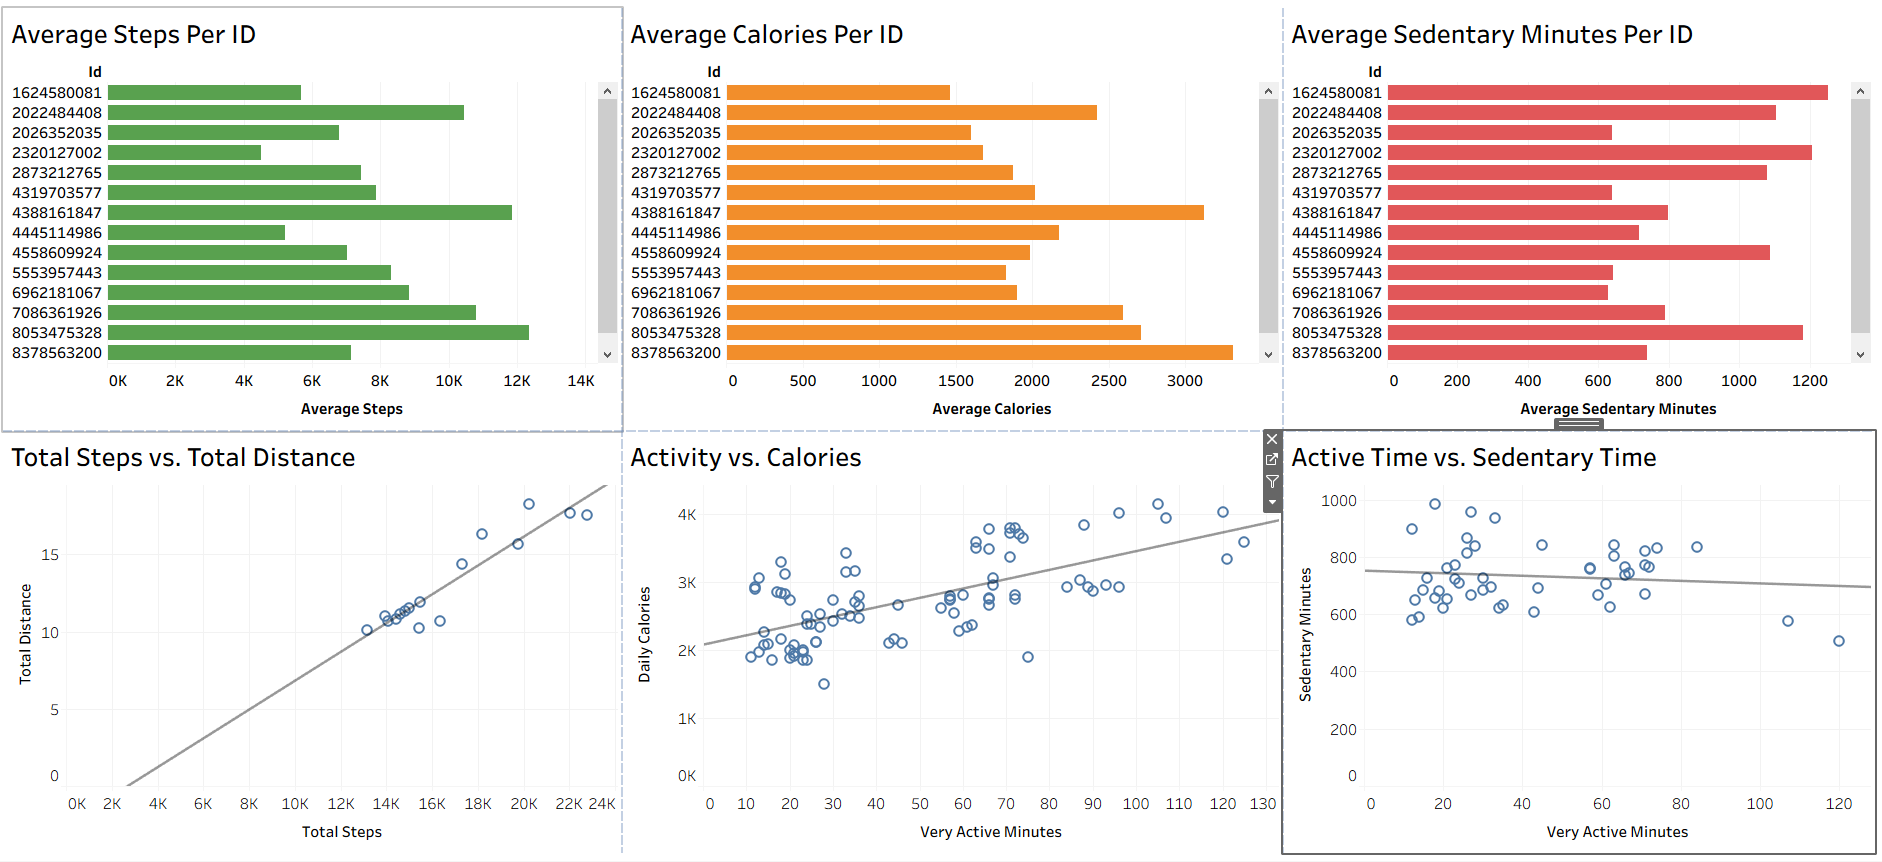

Layout of this report page (visuals, bound fields, positions):
{"tool":"tableau","page":{"name":"Dashboard 1","canvas":[1000,1000],"units":"permille","ordinal":0},"visuals":[{"type":"worksheet","title":"Sheet 3","mark":"Automatic","rows":["Id"],"cols":["Average Steps"],"box":[6.4,9.3,326.3,490.7]},{"type":"worksheet","title":"Sheet 1","mark":"Automatic","rows":["Id"],"cols":["Average Calories"],"box":[332.7,9.3,348.6,490.7]},{"type":"worksheet","title":"Sheet 2","mark":"Automatic","rows":["Id"],"cols":["Average Sedentary Minutes"],"box":[681.3,9.3,312.3,490.7]},{"type":"worksheet","title":"Sheet 5","mark":"Automatic","rows":["TotalDistance"],"cols":["TotalSteps"],"box":[6.4,500,326.3,490.7]},{"type":"worksheet","title":"Sheet 6","mark":"Automatic","rows":["Daily Calories"],"cols":["VeryActiveMinutes"],"box":[332.7,500,348.6,490.7]},{"type":"worksheet","title":"Sheet 7","mark":"Automatic","rows":["SedentaryMinutes"],"cols":["VeryActiveMinutes"],"box":[681.3,500,312.3,490.7]}]}

Visuals, with their boxes on the dashboard's canvas, which has no fixed pixel size, in thousandths of its width and height (x1, y1, x2, y2). These are canvas units, not pixel positions in the 1882x862 screenshot, which may show the page scaled, cropped or inside an application window:
"Sheet 3" worksheet: BBox(6, 9, 333, 500)
"Sheet 1" worksheet: BBox(333, 9, 681, 500)
"Sheet 2" worksheet: BBox(681, 9, 994, 500)
"Sheet 5" worksheet: BBox(6, 500, 333, 991)
"Sheet 6" worksheet: BBox(333, 500, 681, 991)
"Sheet 7" worksheet: BBox(681, 500, 994, 991)
